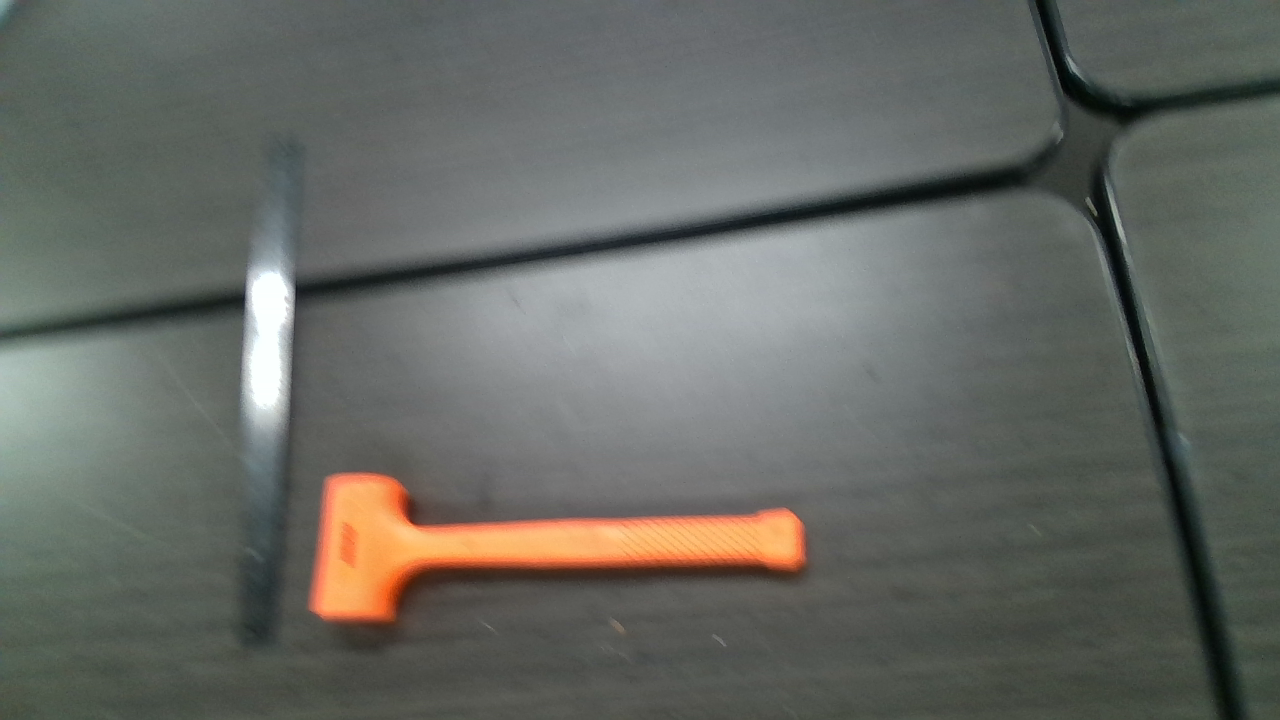Orange Hammer: (314, 475, 809, 623)
